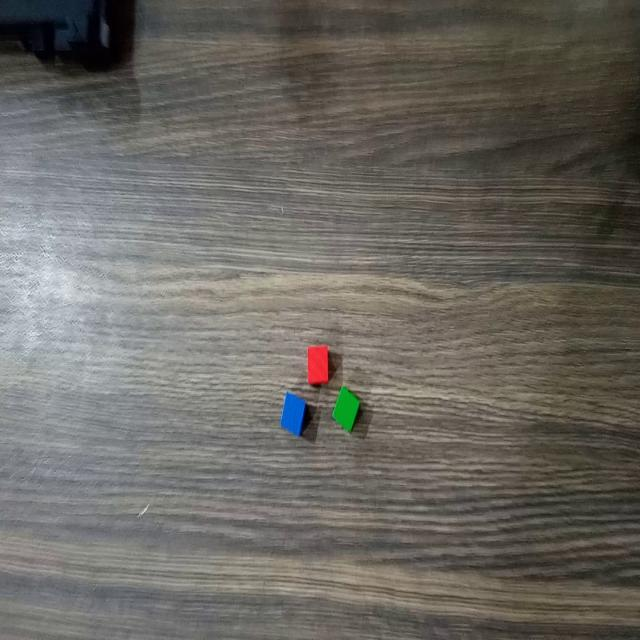cube: (330, 380, 365, 438), (276, 387, 308, 441), (305, 339, 332, 389)
